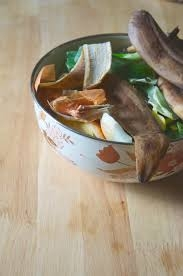kitchen_waste: (124, 4, 183, 123), (101, 76, 165, 184), (49, 36, 120, 87), (43, 87, 110, 123)
